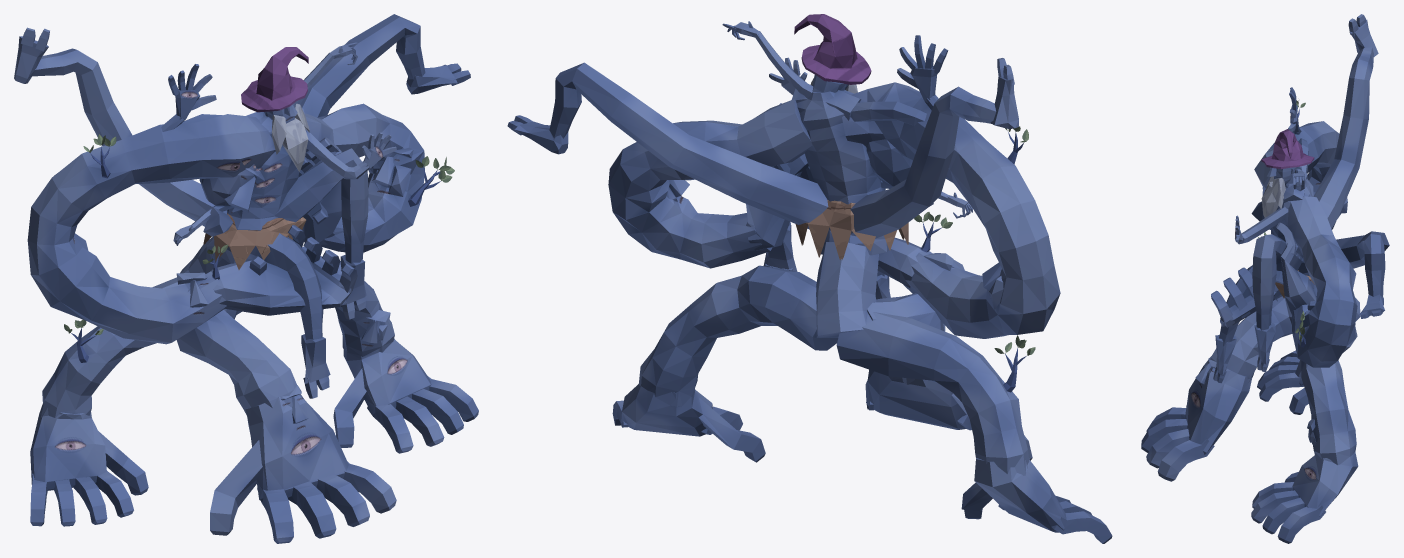
3 renders of one model, left to right at view 1: azimuth 30°, elevation 25°; view 2: azimuth 150°, elevation 25°; view 3: azimuth 270°, elevation 25°, orthographic. The views are drawn at different scales.
Visible parts, largest first — view 1: MG01_Body_LOD0, MG01_Cloth_LOD0, MG01_Leaves_LOD0; view 2: MG01_Body_LOD0, MG01_Cloth_LOD0; view 3: MG01_Body_LOD0.
Part boxes in pixels (box(x1,y1,x2,y2)): MG01_Body_LOD0: box(14, 14, 478, 543); MG01_Cloth_LOD0: box(203, 213, 306, 269); MG01_Leaves_LOD0: box(64, 134, 454, 335); MG01_Body_LOD0: box(507, 14, 1112, 543); MG01_Cloth_LOD0: box(795, 200, 908, 259); MG01_Body_LOD0: box(1141, 14, 1389, 543).
Size of what is drawn, in the model's own units: 22.13 by 19.65 by 11.94.
